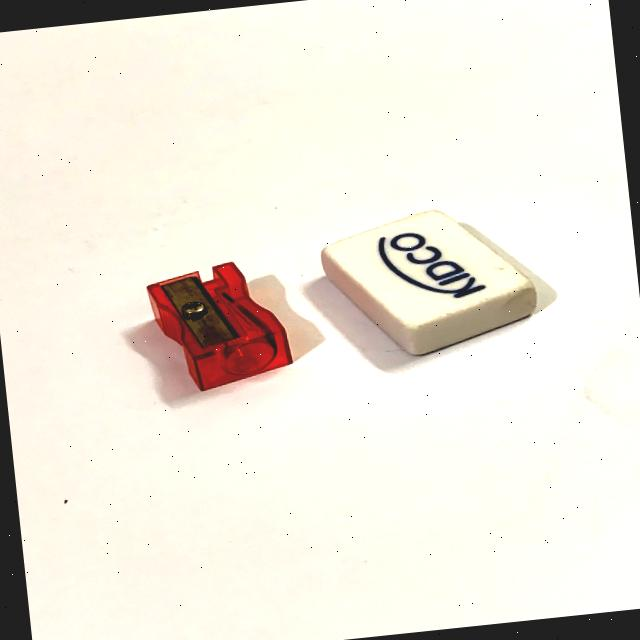Eraser: (298, 182, 563, 372)
Sharpner: (112, 242, 305, 408)
